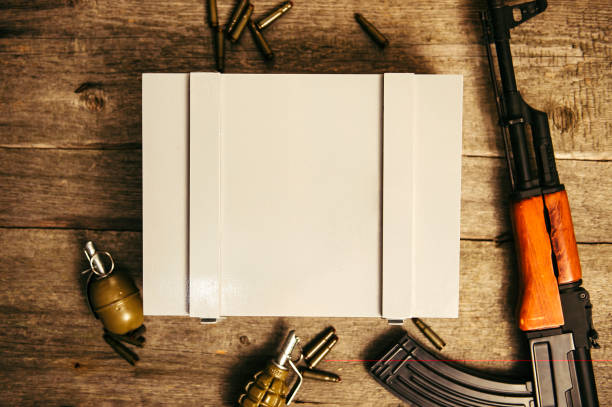e1: (75, 231, 146, 336), (233, 334, 306, 407)
